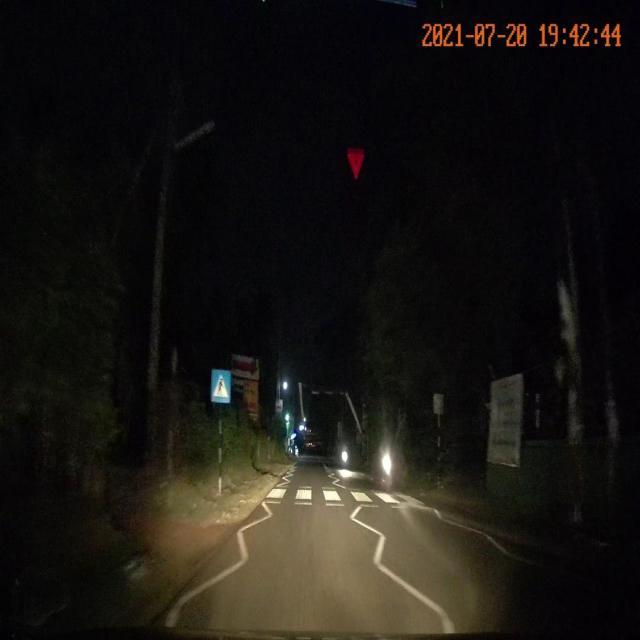Crosswalk: (259, 483, 438, 511)
